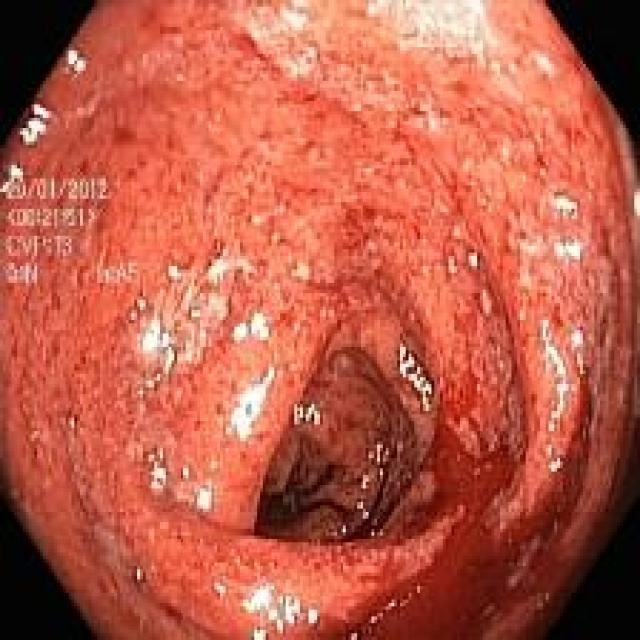ulcerative-colitis-grade-3: (0, 3, 640, 637)
